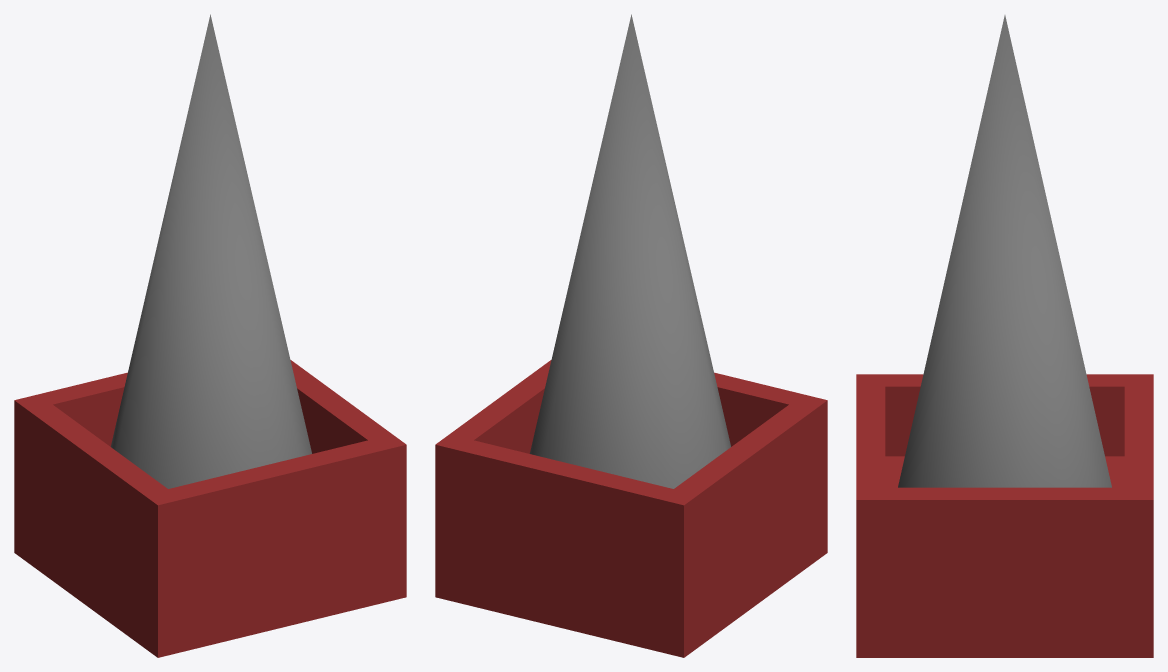
The model's file is 1Spike.fbx.
The picture shows the model from 3 angles, left to right: view 1: azimuth 30°, elevation 25°; view 2: azimuth 150°, elevation 25°; view 3: azimuth 270°, elevation 25°; orthographic projection. The views are drawn at different scales.
Visible parts, largest first — view 1: pCube1, pCone1; view 2: pCube1, pCone1; view 3: pCube1, pCone1.
Part boxes in pixels (<box>): pCube1: <box>14,360,406,657</box>; pCone1: <box>111,14,311,488</box>; pCube1: <box>435,360,827,657</box>; pCone1: <box>530,14,730,488</box>; pCube1: <box>856,374,1153,657</box>; pCone1: <box>898,15,1111,487</box>.
Size of the model in its own units: 1.31 by 2.81 by 1.31.
